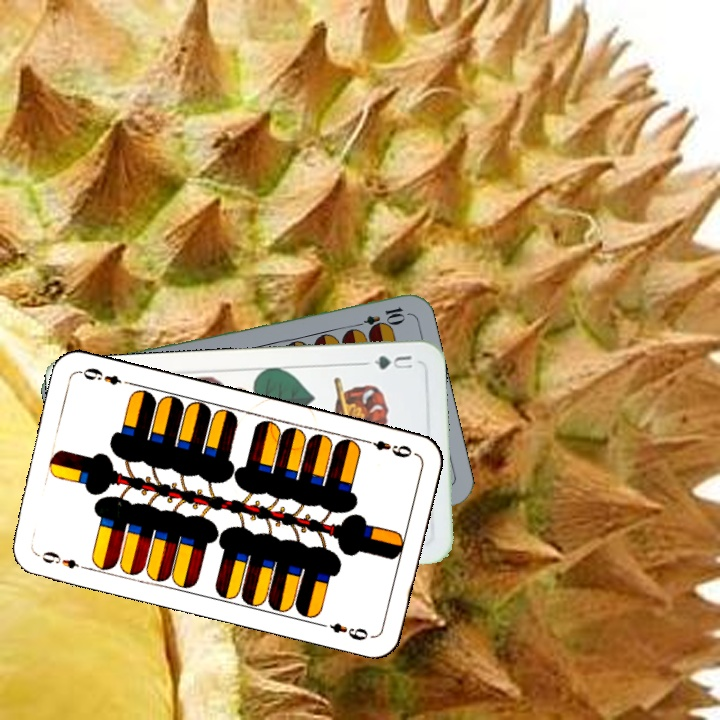E10: (349, 303, 408, 332)
E9: (33, 547, 91, 573), (359, 435, 415, 461)
GU: (370, 351, 417, 373)
